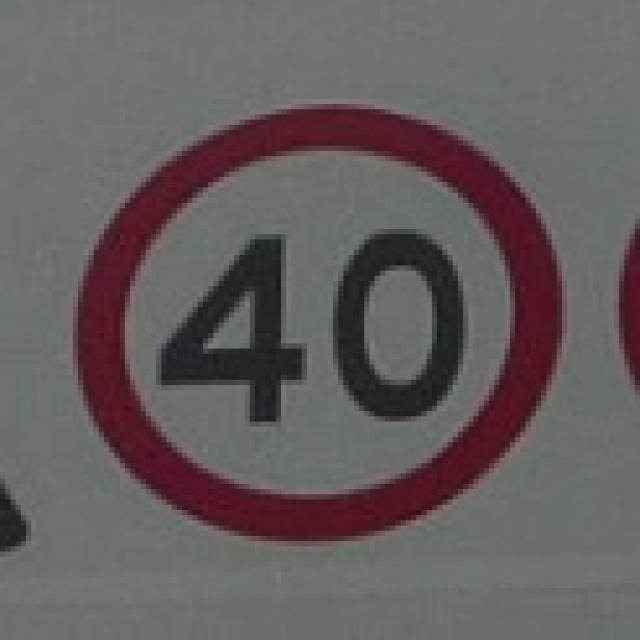Speed Limit -40-: (158, 232, 472, 428)
